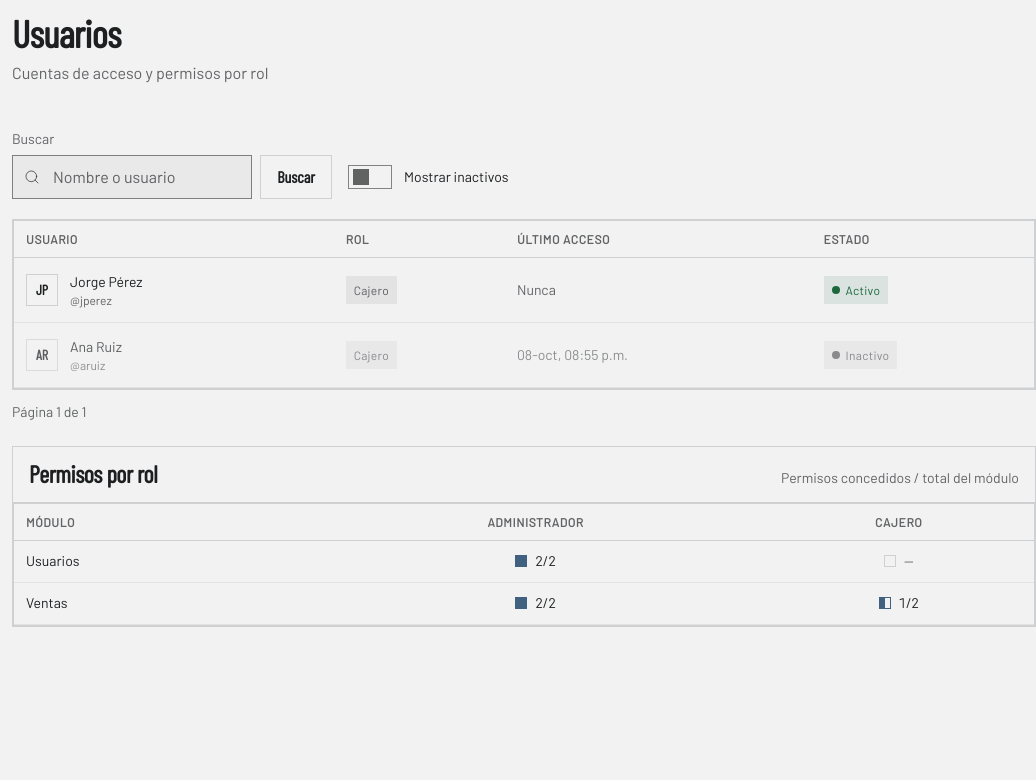
Test case: Usuarios (7.1) › sin permisos de escritura no ofrece Nuevo usuario y el panel queda de solo lectura
Expected: the text "Jorge Pérez" is shown, [70,272,143,292]
Click the button with aria-label "Editar Jorge Pérez" at (84, 290), box [26,268,143,312]
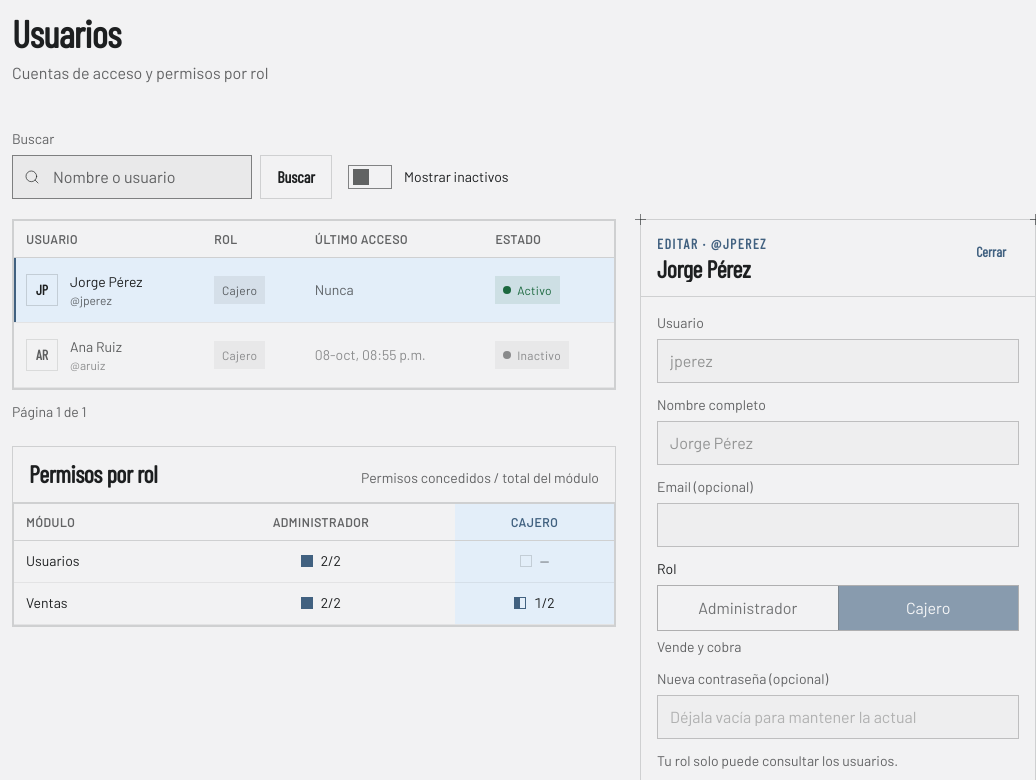
Result: the text "Tu rol solo puede consultar los usuarios." is shown at [657,752,898,769]
